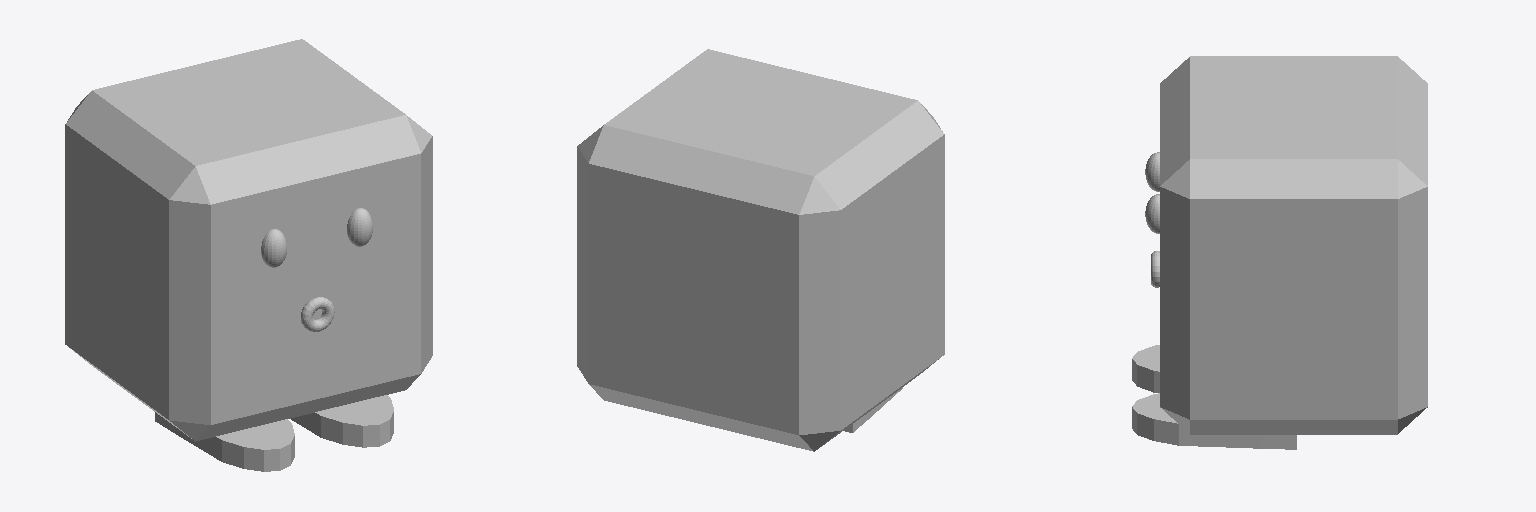
Rendered from pedrocube.obj.
3 views of the same model, side by side, from view 1: azimuth 30°, elevation 25°; view 2: azimuth 150°, elevation 25°; view 3: azimuth 270°, elevation 25° (orthographic).
Visible parts, largest first — view 1: pCube2, pedro:polySurface2 pCube2; view 2: pCube2; view 3: pCube2, pedro:polySurface2 pCube2.
Boxes of the visible parts, <box> form: pCube2: <box>65,39,432,441</box>; pedro:polySurface2 pCube2: <box>155,395,393,471</box>; pCube2: <box>577,49,944,451</box>; pCube2: <box>1145,56,1427,434</box>; pedro:polySurface2 pCube2: <box>1132,345,1296,449</box>.
Bounding box in the file's own units: 1 × 1.08 × 0.9742.